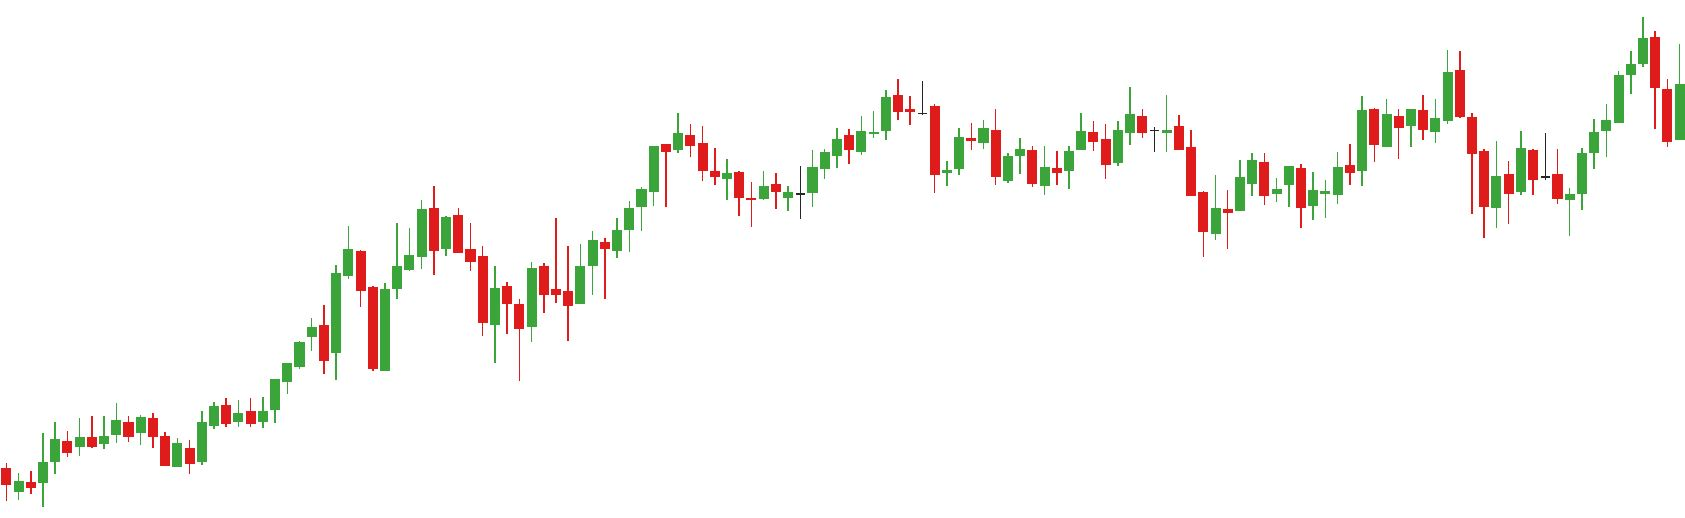buy: (1504, 126, 1575, 248)
sell: (339, 171, 441, 319)
